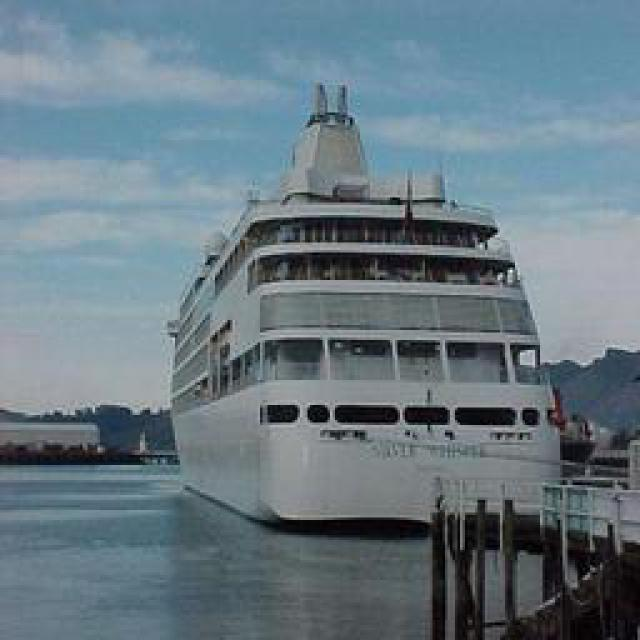Ship: (168, 82, 593, 552)
